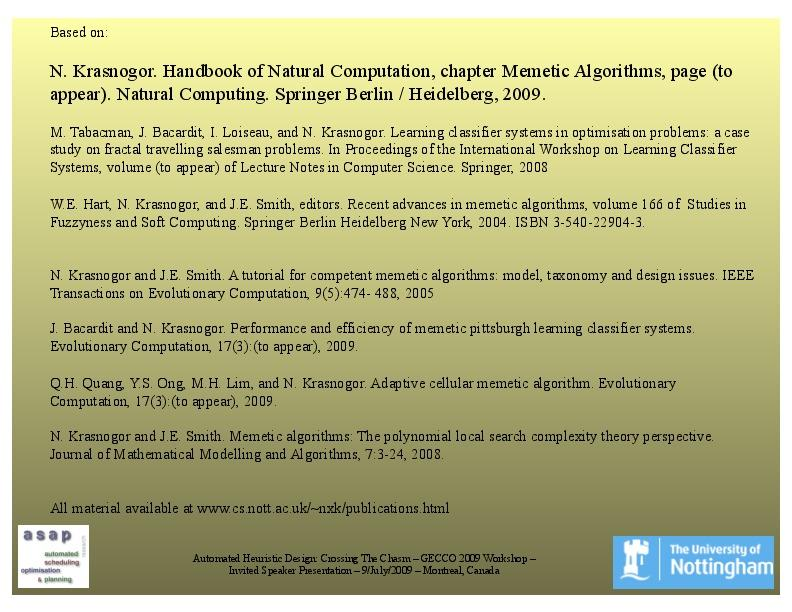paragraph: (36, 113, 774, 527)
title: (34, 18, 746, 114)
